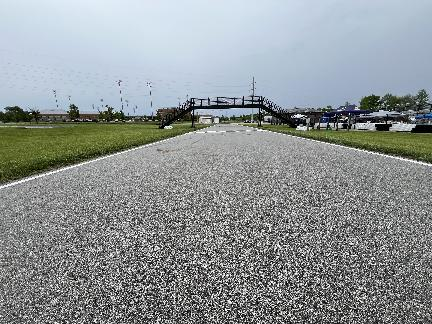Grass: (0, 124, 208, 182), (263, 125, 431, 161)
Lane: (0, 125, 431, 323)
